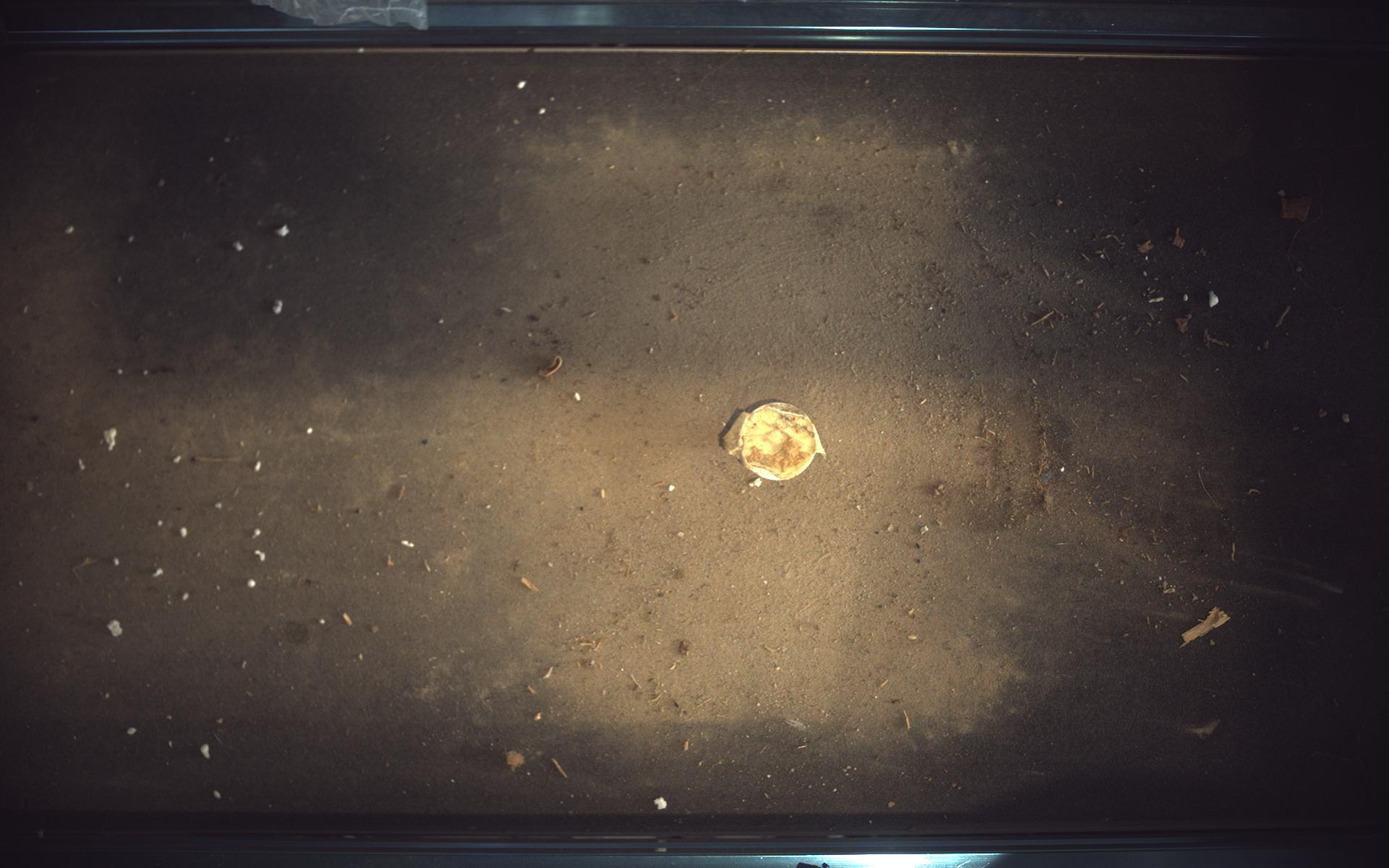plastic: (723, 401, 827, 481)
